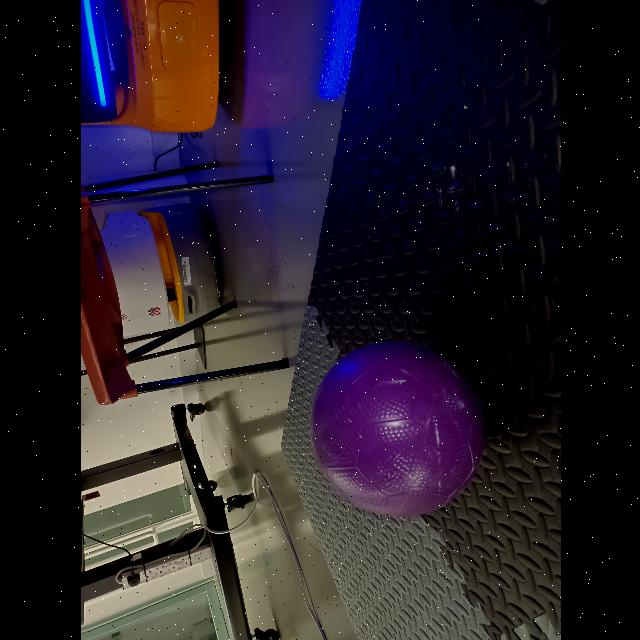P: (310, 341, 484, 517)
